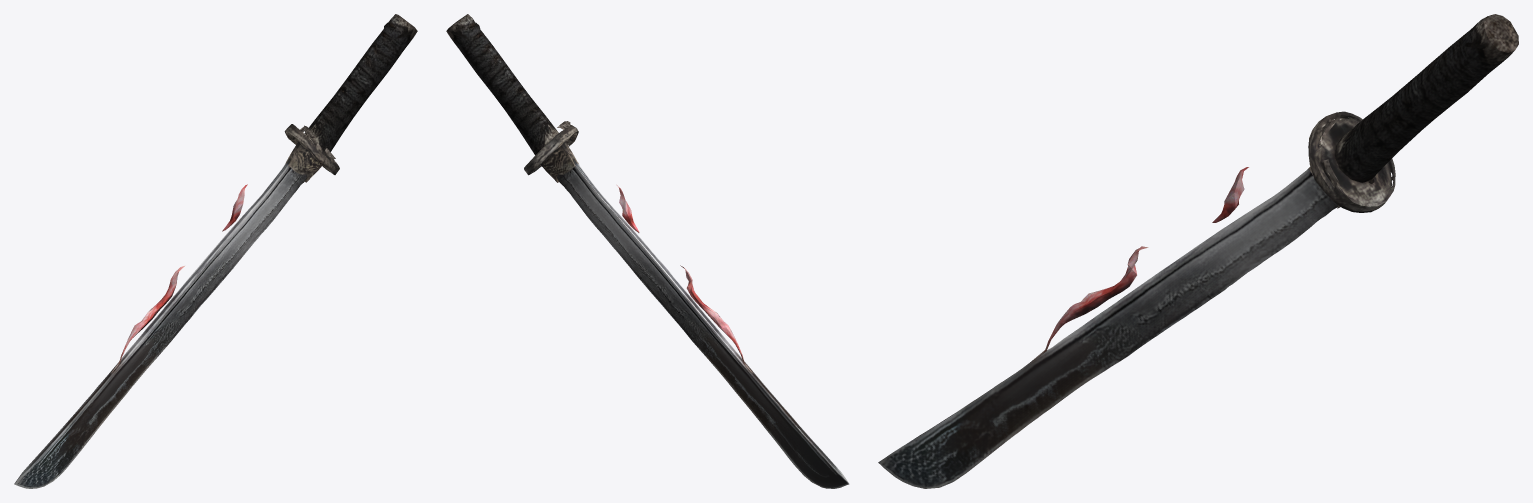
Rendered from muramasa.glb.
The picture shows the model from 3 angles, left to right: view 1: azimuth 30°, elevation 25°; view 2: azimuth 150°, elevation 25°; view 3: azimuth 330°, elevation 25°; orthographic projection. The views are drawn at different scales.
Visible parts, largest first — view 1: geom0; view 2: geom0; view 3: geom0.
Part boxes in pixels (left/top/right/bottom): geom0: left=14, top=14, right=417, bottom=488; geom0: left=446, top=14, right=849, bottom=488; geom0: left=878, top=14, right=1518, bottom=488.
Bounding box in the file's own units: 1 × 0.9173 × 0.1496.
1 material, 1 textured.
